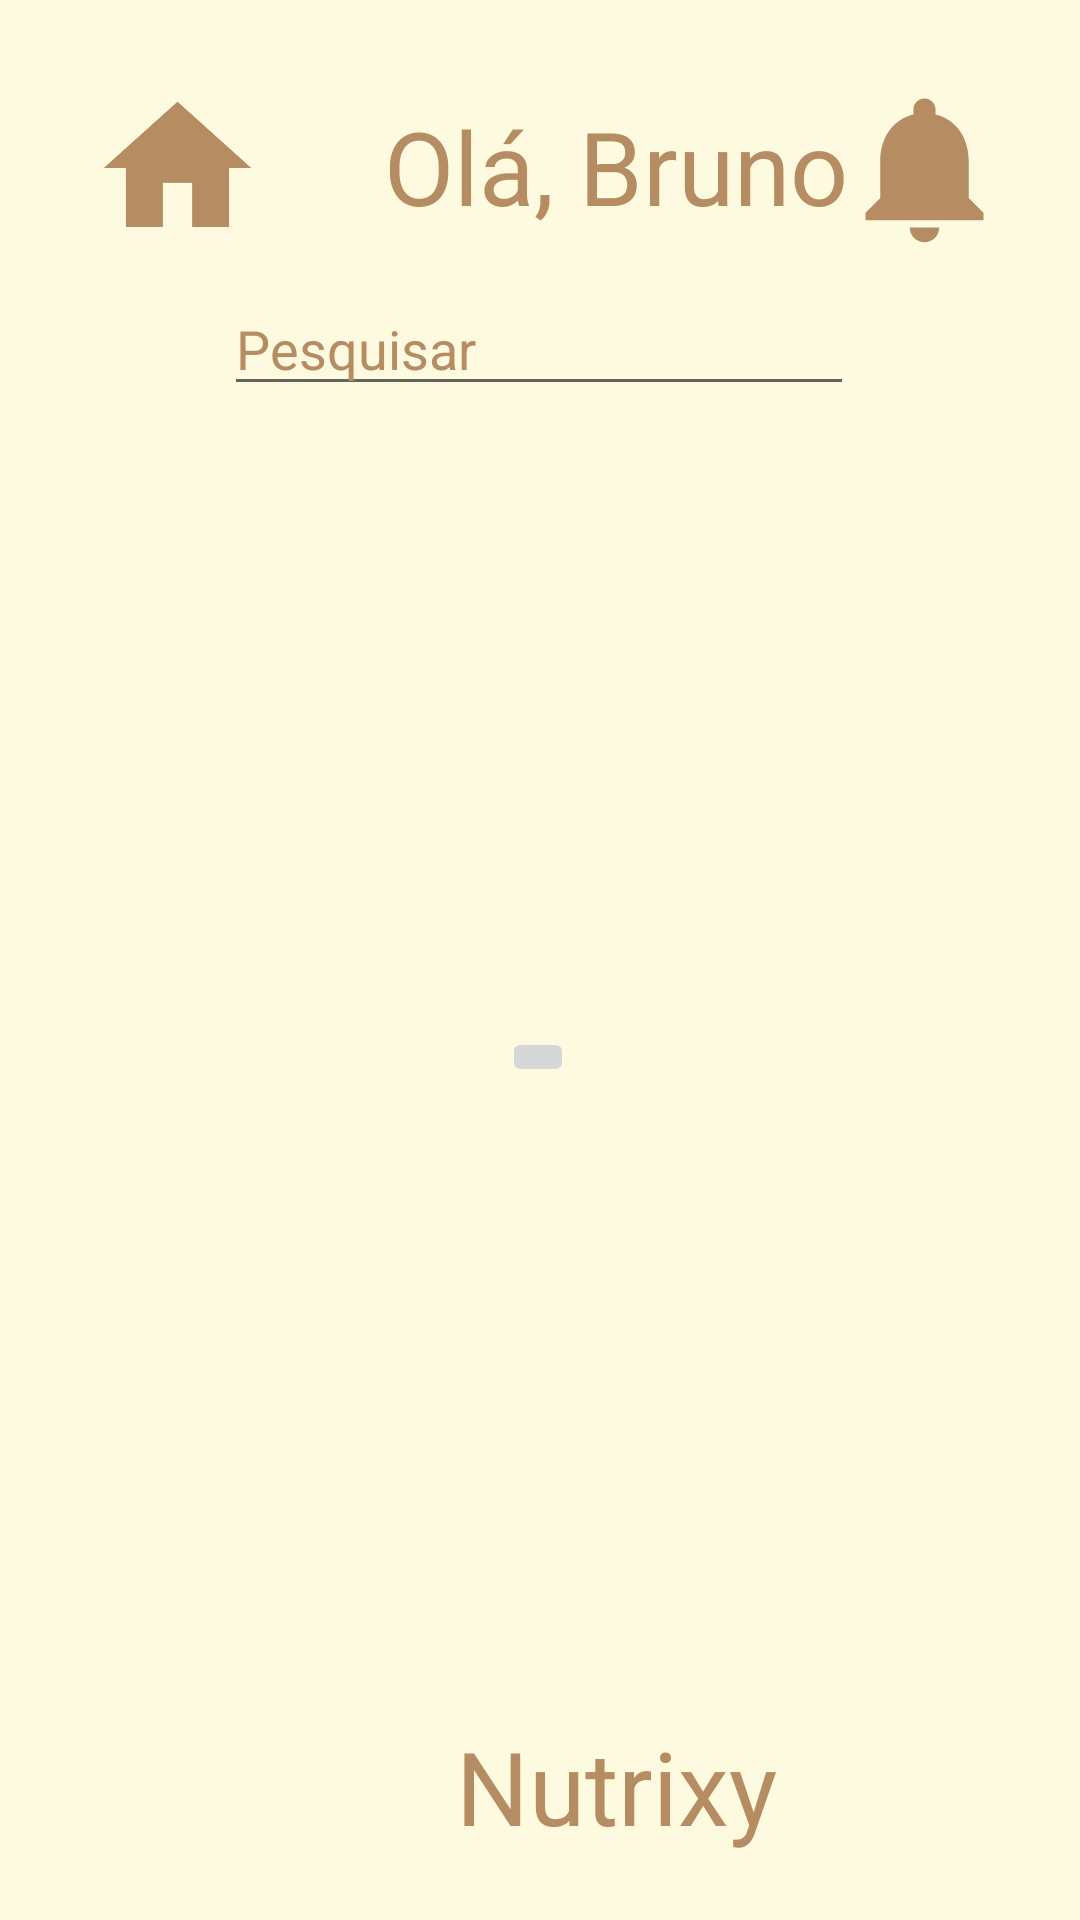

Locate icon controls on the screen. Image size 1080 × 1920, boxes as (x1, y1, x2, y2).
home: (104, 102, 251, 227)
notifications: (865, 98, 984, 243)
